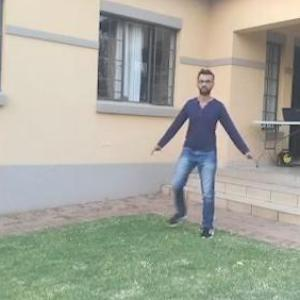land: (159, 79, 251, 226)
